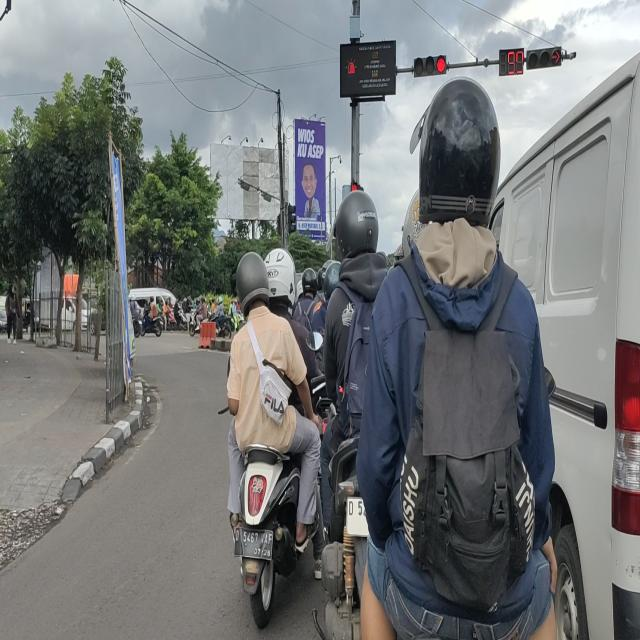helmet: (424, 77, 499, 226), (333, 193, 383, 262), (264, 244, 296, 313), (234, 252, 269, 306), (302, 268, 316, 308)
